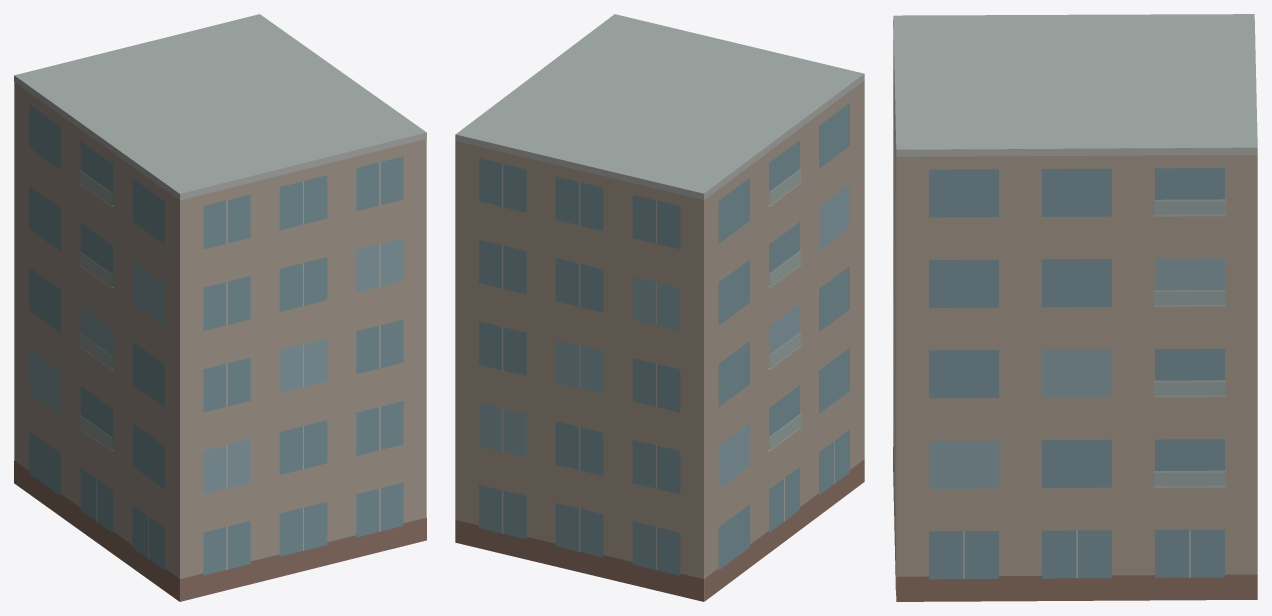
File: survey-upis-32620635.glb
3 renders of one model, left to right at view 1: azimuth 30°, elevation 25°; view 2: azimuth 150°, elevation 25°; view 3: azimuth 270°, elevation 25°, orthographic. The views are drawn at different scales.
Visible parts, largest first — view 1: survey-upis-32620635.tmp; view 2: survey-upis-32620635.tmp; view 3: survey-upis-32620635.tmp.
Part boxes in pixels (left/top/right/bottom): survey-upis-32620635.tmp: left=14, top=14, right=426, bottom=601; survey-upis-32620635.tmp: left=455, top=14, right=864, bottom=601; survey-upis-32620635.tmp: left=893, top=14, right=1257, bottom=601.
Size of the model in its own units: 9.9 by 15.35 by 11.23.
